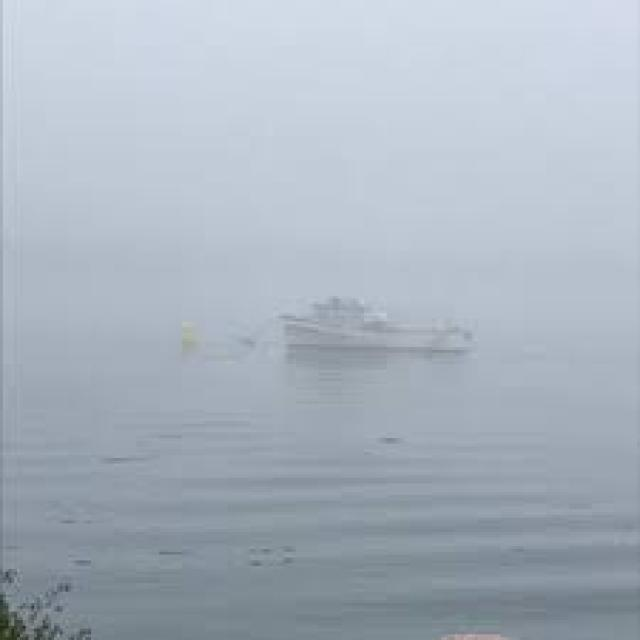cargoship: (260, 260, 492, 360)
